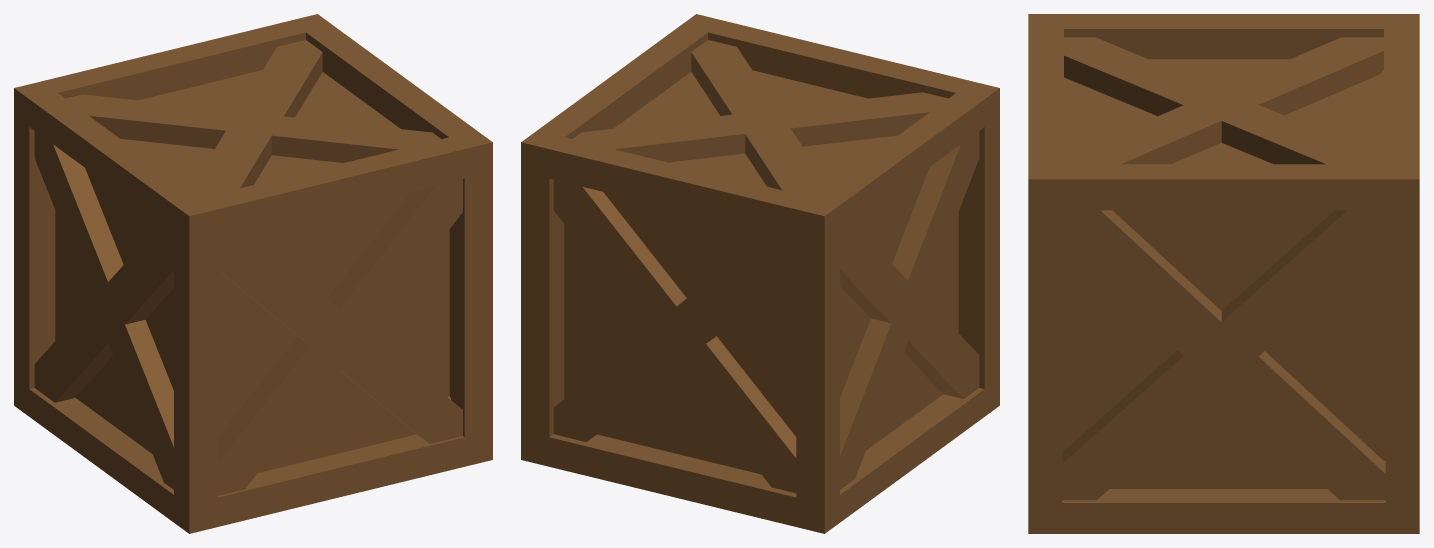
File: Crate.fbx
The picture shows the model from 3 angles, left to right: view 1: azimuth 30°, elevation 25°; view 2: azimuth 150°, elevation 25°; view 3: azimuth 270°, elevation 25°; orthographic projection. The views are drawn at different scales.
Visible parts, largest first — view 1: Crate; view 2: Crate; view 3: Crate.
Part boxes in pixels (x1,y1,x2,y2): Crate: [14, 14, 492, 533]; Crate: [521, 14, 999, 533]; Crate: [1028, 14, 1419, 533].
Size of the model in its own units: 200 by 200 by 200.
